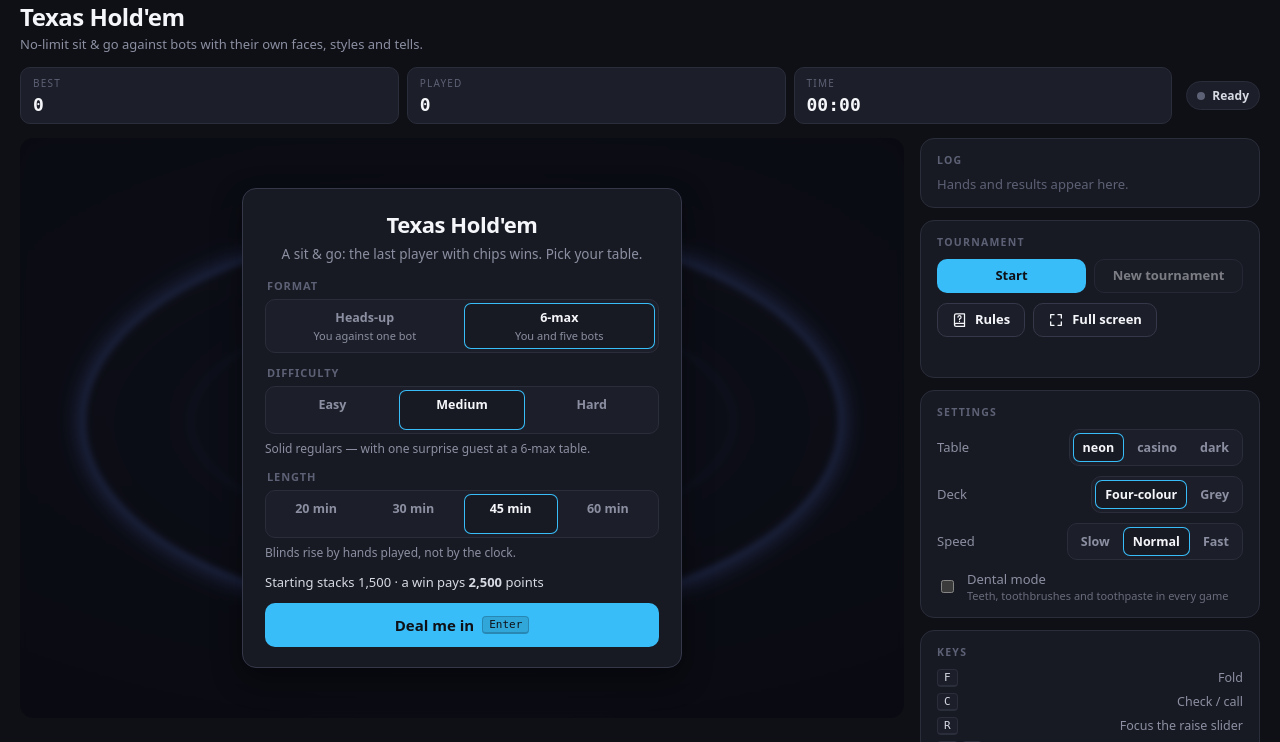
Test case: Hold’em finish early › is hidden before the tournament starts and visible once it is dealt
The image size is (1280, 742).
Check: the button "Finish" is not shown
Click the button "Deal me in Enter": click(462, 625) [265, 603, 659, 647]
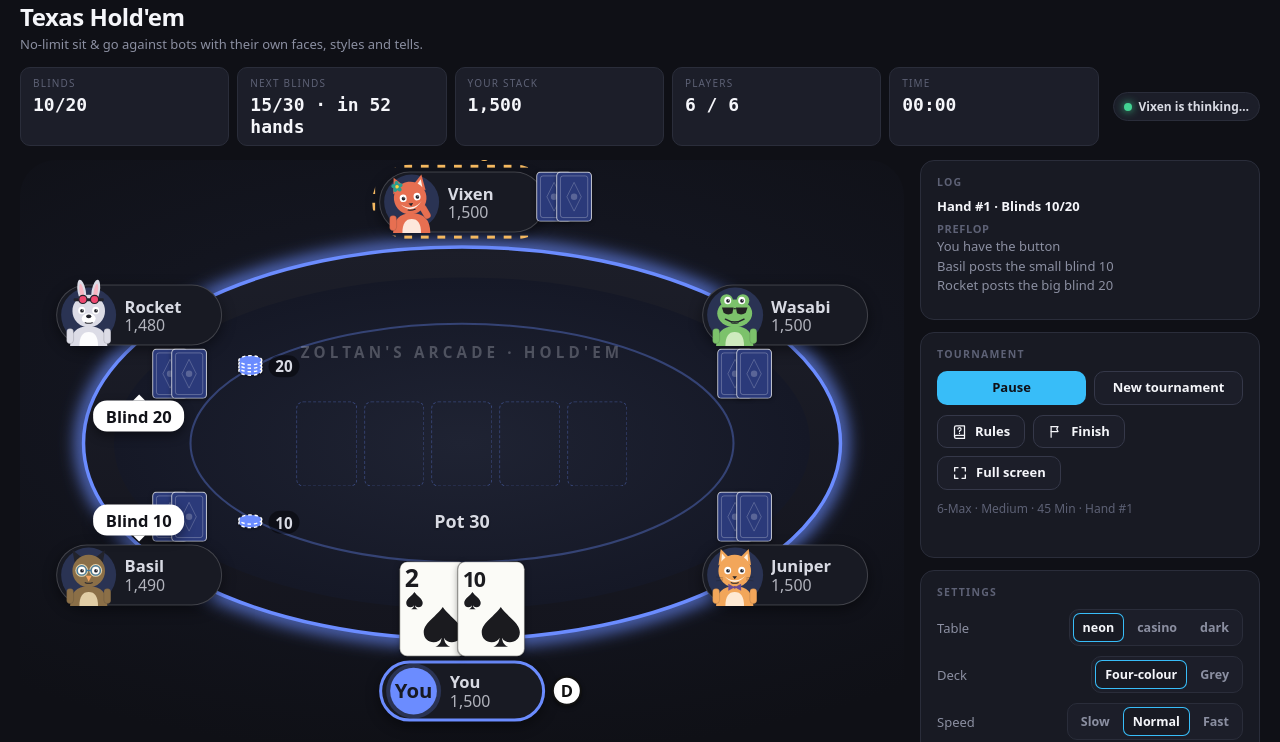
Check: the button "Finish" is shown, box [1033, 415, 1125, 448]
